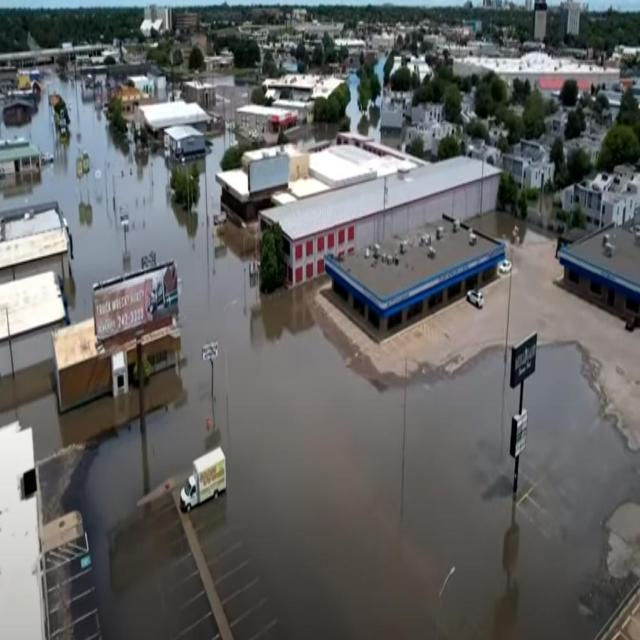flood: (0, 79, 640, 637), (0, 352, 194, 637), (346, 70, 364, 129), (368, 52, 386, 94), (365, 98, 374, 113), (370, 113, 379, 128)
house: (258, 153, 502, 293), (326, 222, 507, 348), (52, 318, 183, 414), (0, 419, 55, 640), (558, 208, 640, 324), (1, 272, 66, 399), (0, 199, 72, 290), (565, 164, 640, 233), (506, 137, 557, 201), (139, 102, 211, 147), (236, 105, 299, 151), (0, 136, 43, 192), (164, 124, 206, 167), (378, 88, 407, 141), (112, 86, 149, 123), (422, 102, 450, 136), (144, 6, 171, 33), (177, 9, 200, 31), (567, 2, 580, 35)
